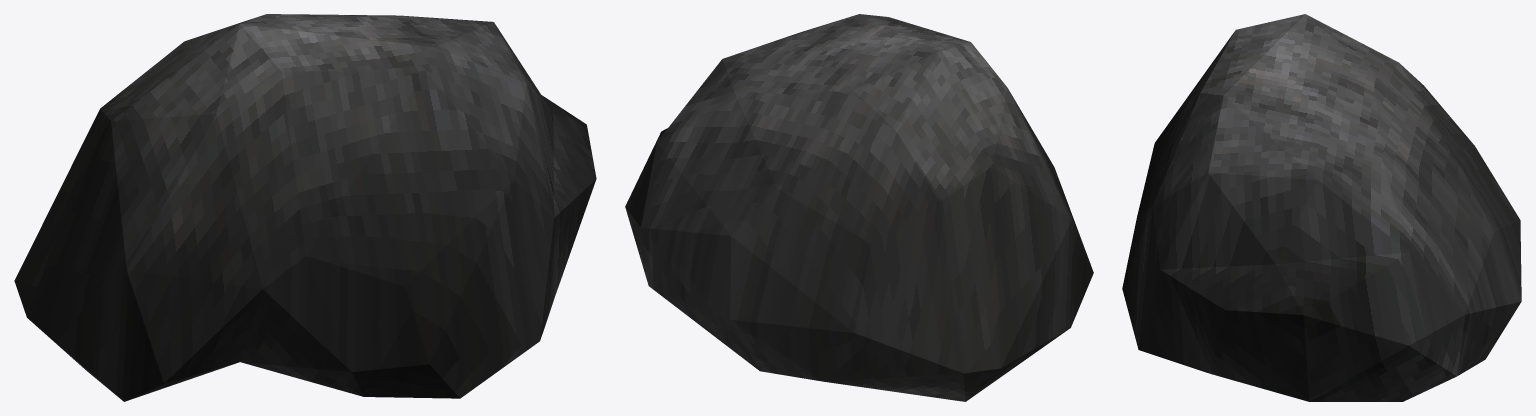
The model's file is stoneLarge.glb.
3 views of the same model, side by side, from view 1: azimuth 30°, elevation 25°; view 2: azimuth 150°, elevation 25°; view 3: azimuth 270°, elevation 25° (orthographic). The views are drawn at different scales.
Parts seen in each view (by area): view 1: Icosphere.005; view 2: Icosphere.005; view 3: Icosphere.005.
Part boxes in pixels (<box>): Icosphere.005: <box>14,14,596,401</box>; Icosphere.005: <box>625,14,1093,401</box>; Icosphere.005: <box>1122,14,1521,401</box>.
Bounding box in the file's own units: 8.34 × 5.98 × 6.89.
Materials: 1 (1 with a texture image).
